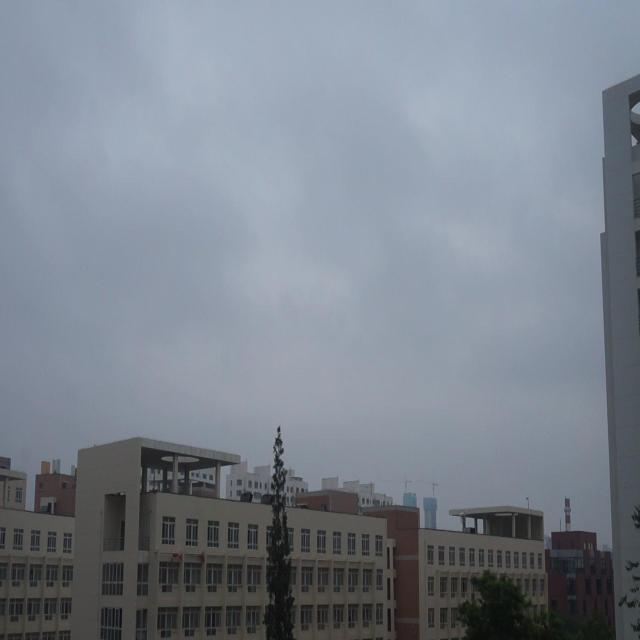drone: (458, 507, 468, 523)
